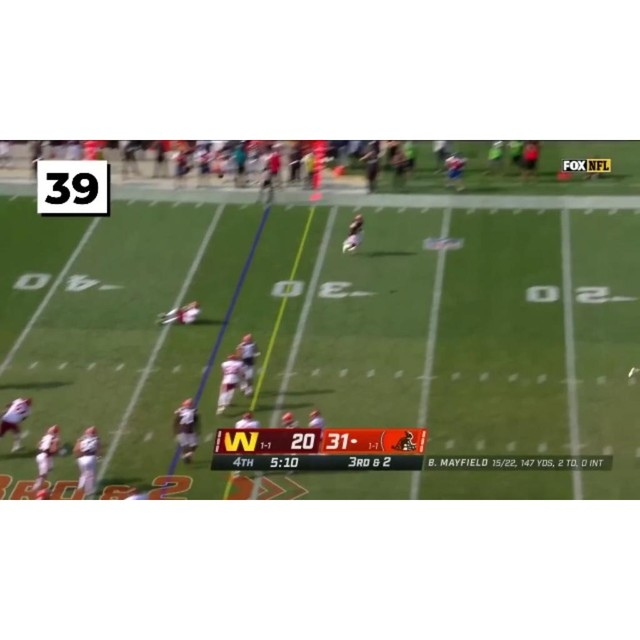american-football-player: (71, 425, 103, 498), (31, 425, 65, 492), (171, 398, 202, 466), (0, 398, 34, 455), (216, 352, 245, 416), (235, 333, 262, 395), (159, 301, 202, 326), (341, 214, 366, 255)
